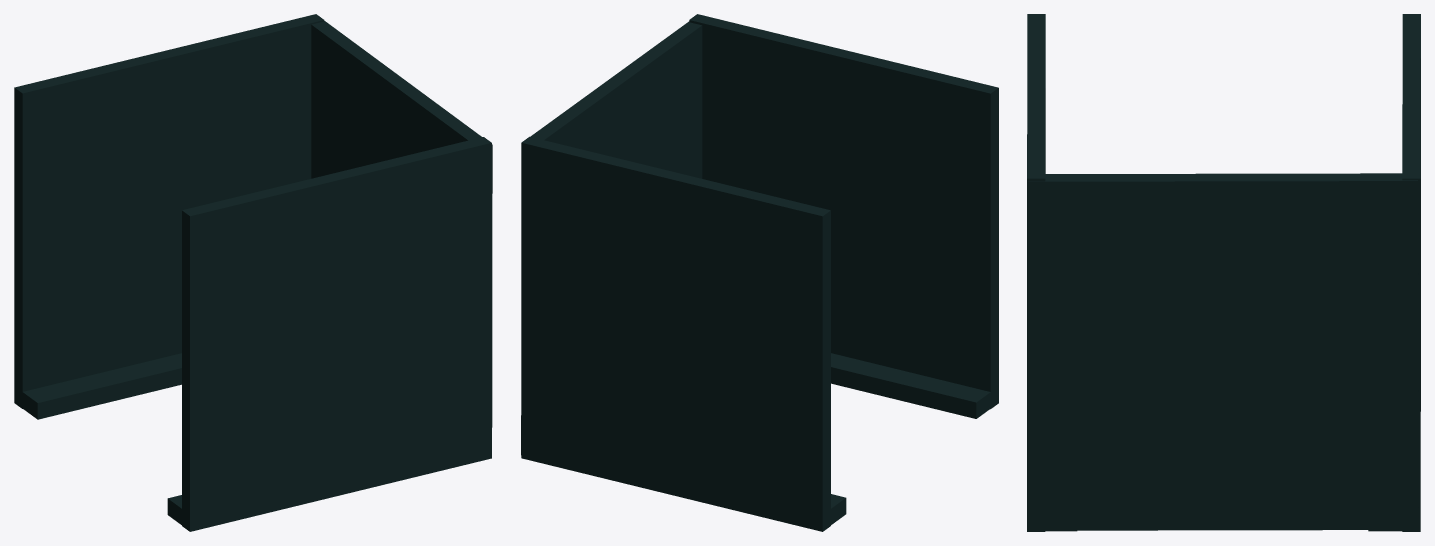
The model's file is estante.obj.
3 views of the same model, side by side, from view 1: azimuth 30°, elevation 25°; view 2: azimuth 150°, elevation 25°; view 3: azimuth 270°, elevation 25° (orthographic). The views are drawn at different scales.
Visible parts, largest first — view 1: Cube.002; view 2: Cube.002; view 3: Cube.002.
Boxes of the visible parts, x1,y1,x2,y2 form: Cube.002: (14,14,492,531); Cube.002: (521,14,998,531); Cube.002: (1027,14,1420,531).
Bounding box in the file's own units: 9.86 × 9.82 × 9.93.
